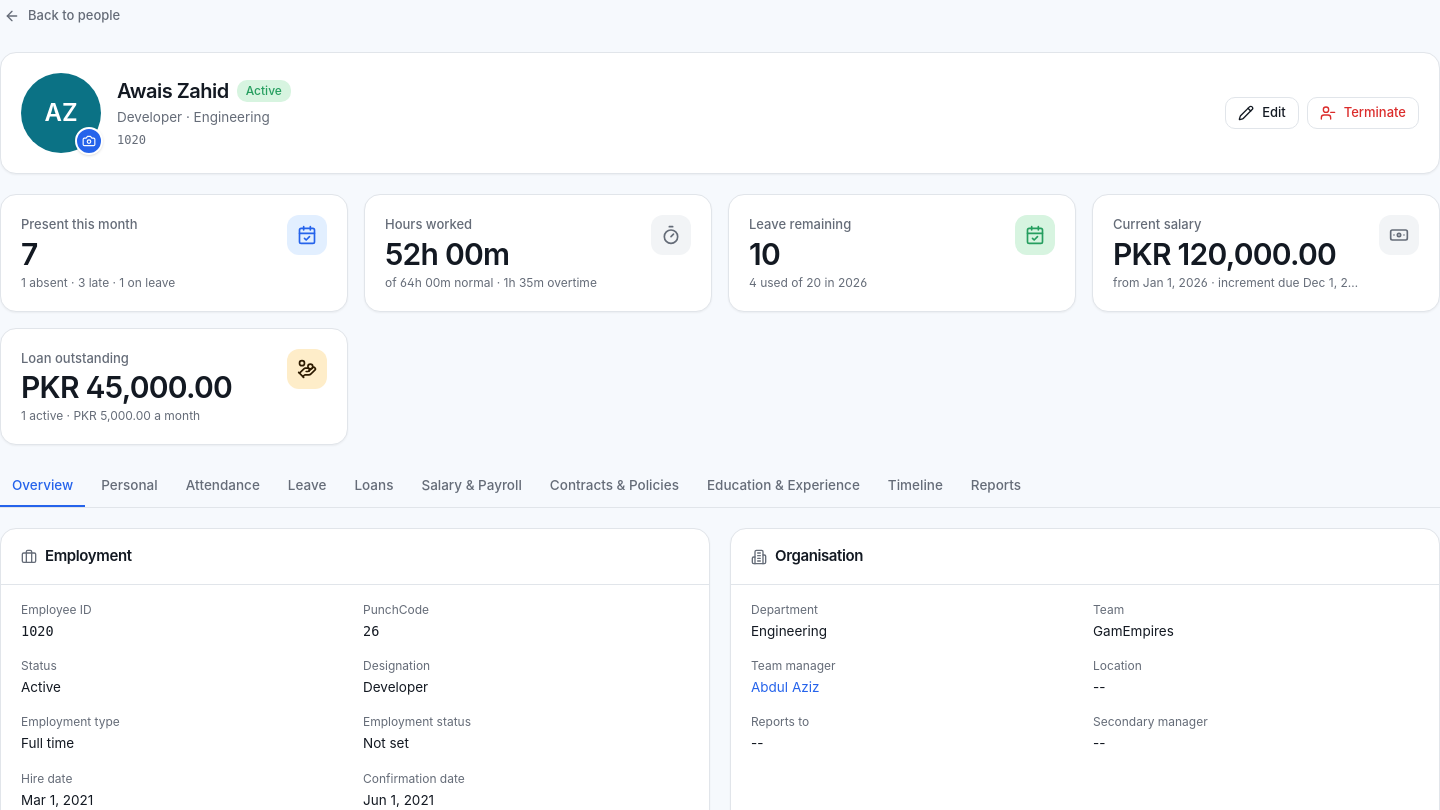
Test: Employee 360 profile › keeps education on the profile and lets HR correct it
Expected: the heading "Awais Zahid" is shown, [117,77,229,105]
Click the button "Education & Experience" at (783, 486), box [695,465,872,507]
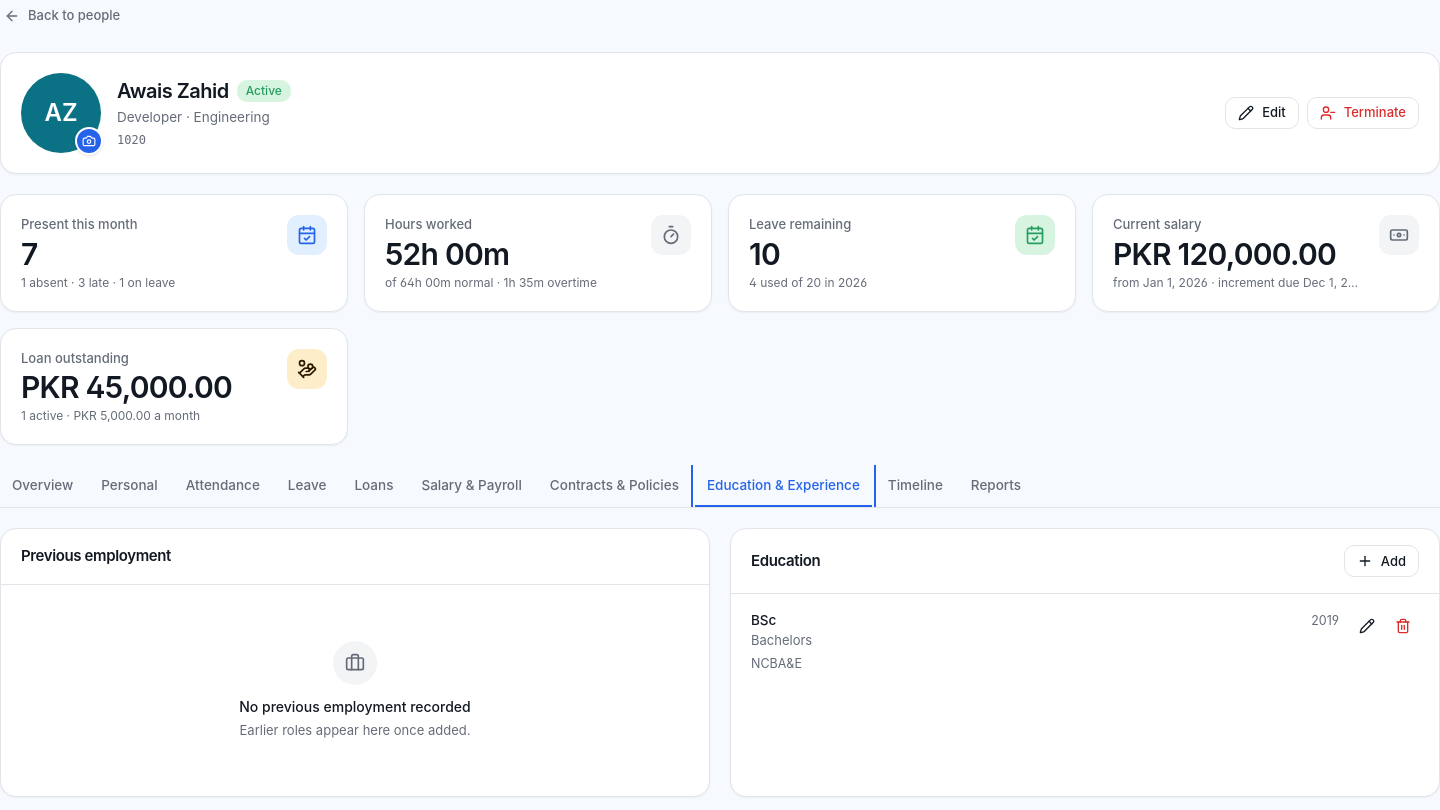
Now the text "BSc" is shown, box [751,610,776,631]
Now the text "NCBA&E" is shown, box [751,656,802,670]
Now the button named "Edit BSc" is shown, box [1351,610,1383,642]
